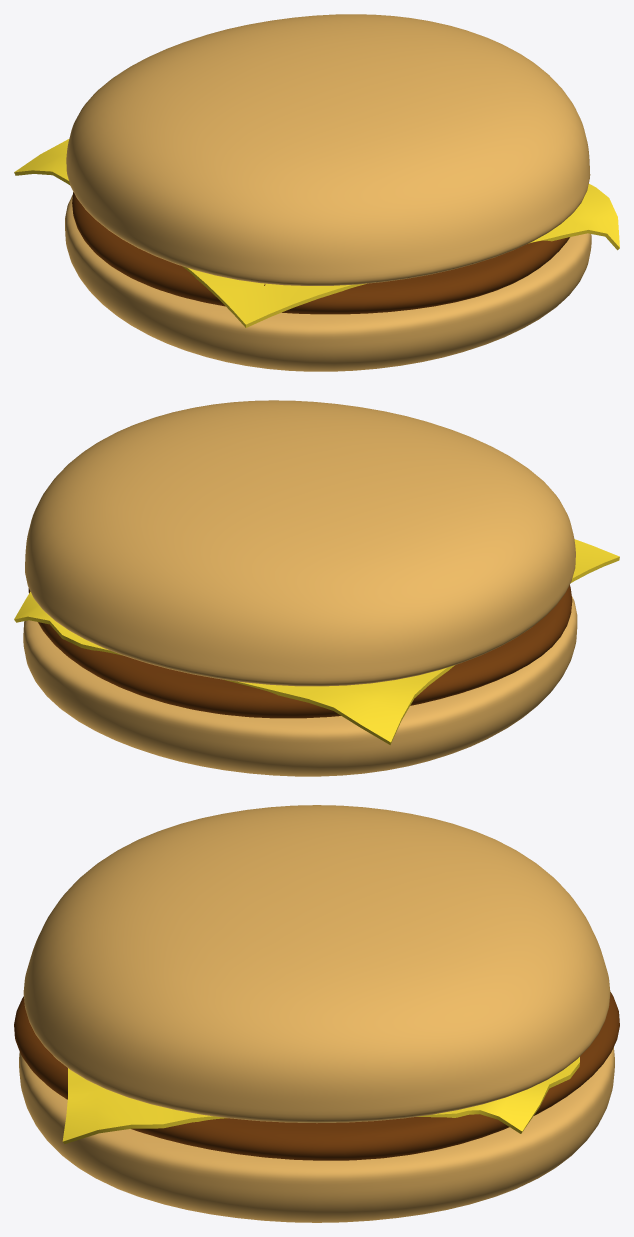
File: hamburger.glb
The picture shows the model from 3 angles, top to bottom: view 1: azimuth 30°, elevation 25°; view 2: azimuth 150°, elevation 25°; view 3: azimuth 270°, elevation 25°; orthographic projection. The views are drawn at different scales.
Visible parts, largest first — view 1: Cube.002, Cube, Cube.001, Plane; view 2: Cube.002, Cube, Cube.001, Plane; view 3: Cube.002, Cube, Cube.001, Plane.
Boxes of the visible parts, x1,y1,x2,y2 form: Cube.002: (66, 14, 590, 285); Cube: (65, 194, 591, 371); Cube.001: (72, 192, 569, 314); Plane: (14, 139, 619, 327); Cube.002: (25, 400, 575, 686); Cube: (23, 596, 577, 776); Cube.001: (28, 585, 572, 718); Plane: (14, 539, 619, 744); Cube.002: (23, 805, 610, 1123); Cube: (19, 1047, 614, 1222); Cube.001: (14, 992, 619, 1160); Plane: (62, 1057, 579, 1143).
Size of the model in its own units: 10.45 by 4.97 by 10.45.
